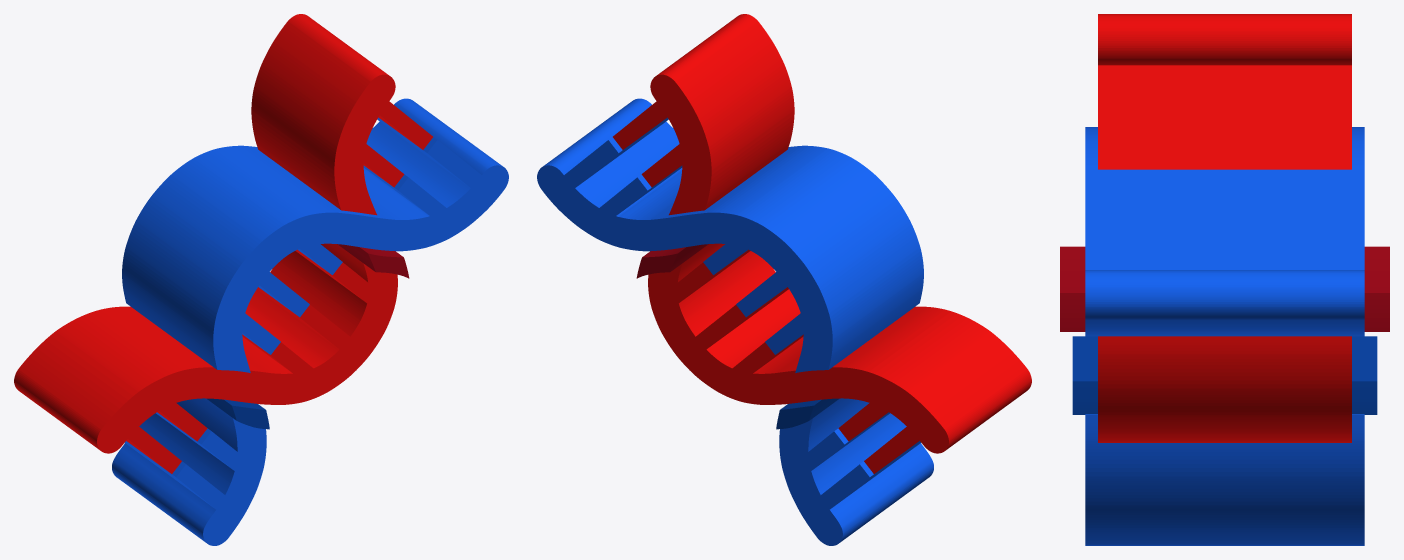
The picture shows the model from 3 angles, left to right: view 1: azimuth 30°, elevation 25°; view 2: azimuth 150°, elevation 25°; view 3: azimuth 270°, elevation 25°; orthographic projection. The views are drawn at different scales.
Visible parts, largest first — view 1: U+1F9EC_layer01_obj00, U+1F9EC_layer00_obj00, U+1F9EC_layer03_obj00, U+1F9EC_layer02_obj00; view 2: U+1F9EC_layer01_obj00, U+1F9EC_layer00_obj00, U+1F9EC_layer03_obj00, U+1F9EC_layer02_obj00; view 3: U+1F9EC_layer01_obj00, U+1F9EC_layer00_obj00, U+1F9EC_layer03_obj00, U+1F9EC_layer02_obj00.
Part boxes in pixels (x1=…): U+1F9EC_layer01_obj00: x1=112, y1=98, x2=508, y2=545; U+1F9EC_layer00_obj00: x1=14, y1=14, x2=432, y2=473; U+1F9EC_layer03_obj00: x1=337, y1=244, x2=409, y2=278; U+1F9EC_layer02_obj00: x1=207, y1=398, x2=269, y2=429; U+1F9EC_layer01_obj00: x1=537, y1=98, x2=933, y2=545; U+1F9EC_layer00_obj00: x1=613, y1=14, x2=1031, y2=473; U+1F9EC_layer03_obj00: x1=636, y1=244, x2=708, y2=278; U+1F9EC_layer02_obj00: x1=776, y1=398, x2=838, y2=429; U+1F9EC_layer01_obj00: x1=1085, y1=127, x2=1364, y2=545; U+1F9EC_layer00_obj00: x1=1098, y1=14, x2=1351, y2=442; U+1F9EC_layer03_obj00: x1=1060, y1=246, x2=1389, y2=331; U+1F9EC_layer02_obj00: x1=1072, y1=336, x2=1377, y2=414.
Bounding box in the file's own units: 0.5678 × 0.5677 × 0.26.
